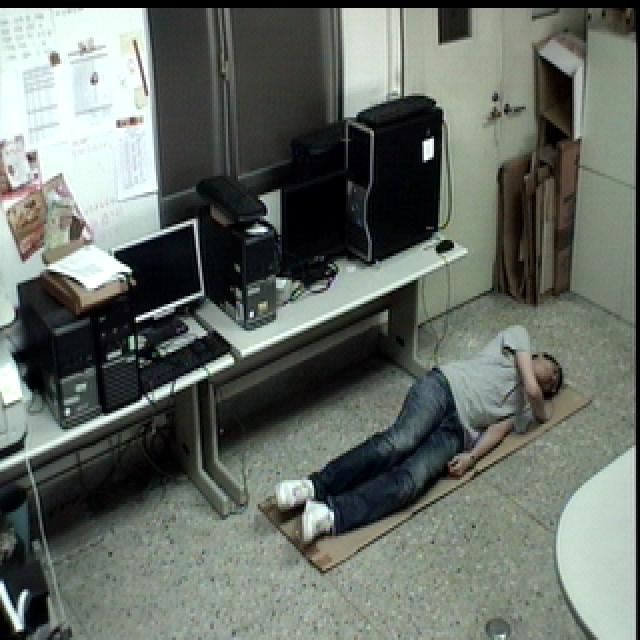lie: (267, 309, 569, 557)
